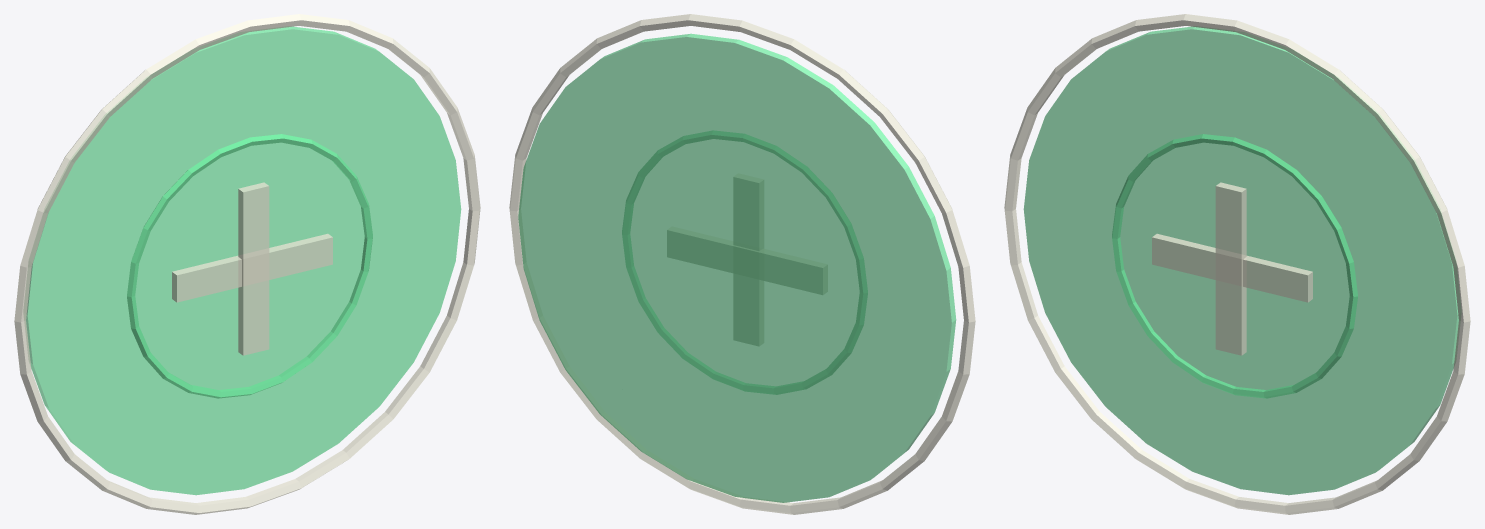
File: vfx_healing_circle.glb
3 views of the same model, side by side, from view 1: azimuth 30°, elevation 25°; view 2: azimuth 150°, elevation 25°; view 3: azimuth 330°, elevation 25° (orthographic).
Parts seen in each view (by area): view 1: disc, outer, inner, cross_b, cross_a; view 2: disc, outer, inner, cross_a, cross_b; view 3: disc, outer, inner, cross_b, cross_a.
Part boxes in pixels (left/top/right/bottom): disc: left=24, top=26, right=461, bottom=495; outer: left=14, top=14, right=480, bottom=514; inner: left=127, top=134, right=372, bottom=398; cross_b: left=238, top=182, right=269, bottom=355; cross_a: left=172, top=233, right=332, bottom=302; disc: left=518, top=33, right=956, bottom=502; outer: left=509, top=14, right=975, bottom=514; inner: left=622, top=131, right=867, bottom=394; cross_a: left=667, top=227, right=827, bottom=294; cross_b: left=733, top=173, right=763, bottom=345; disc: left=1023, top=26, right=1460, bottom=495; outer: left=1004, top=14, right=1470, bottom=514; inner: left=1112, top=134, right=1357, bottom=398; cross_b: left=1215, top=182, right=1246, bottom=355; cross_a: left=1152, top=233, right=1312, bottom=302.
Size of the model in its own units: 2.15 by 2.15 by 0.1295.
